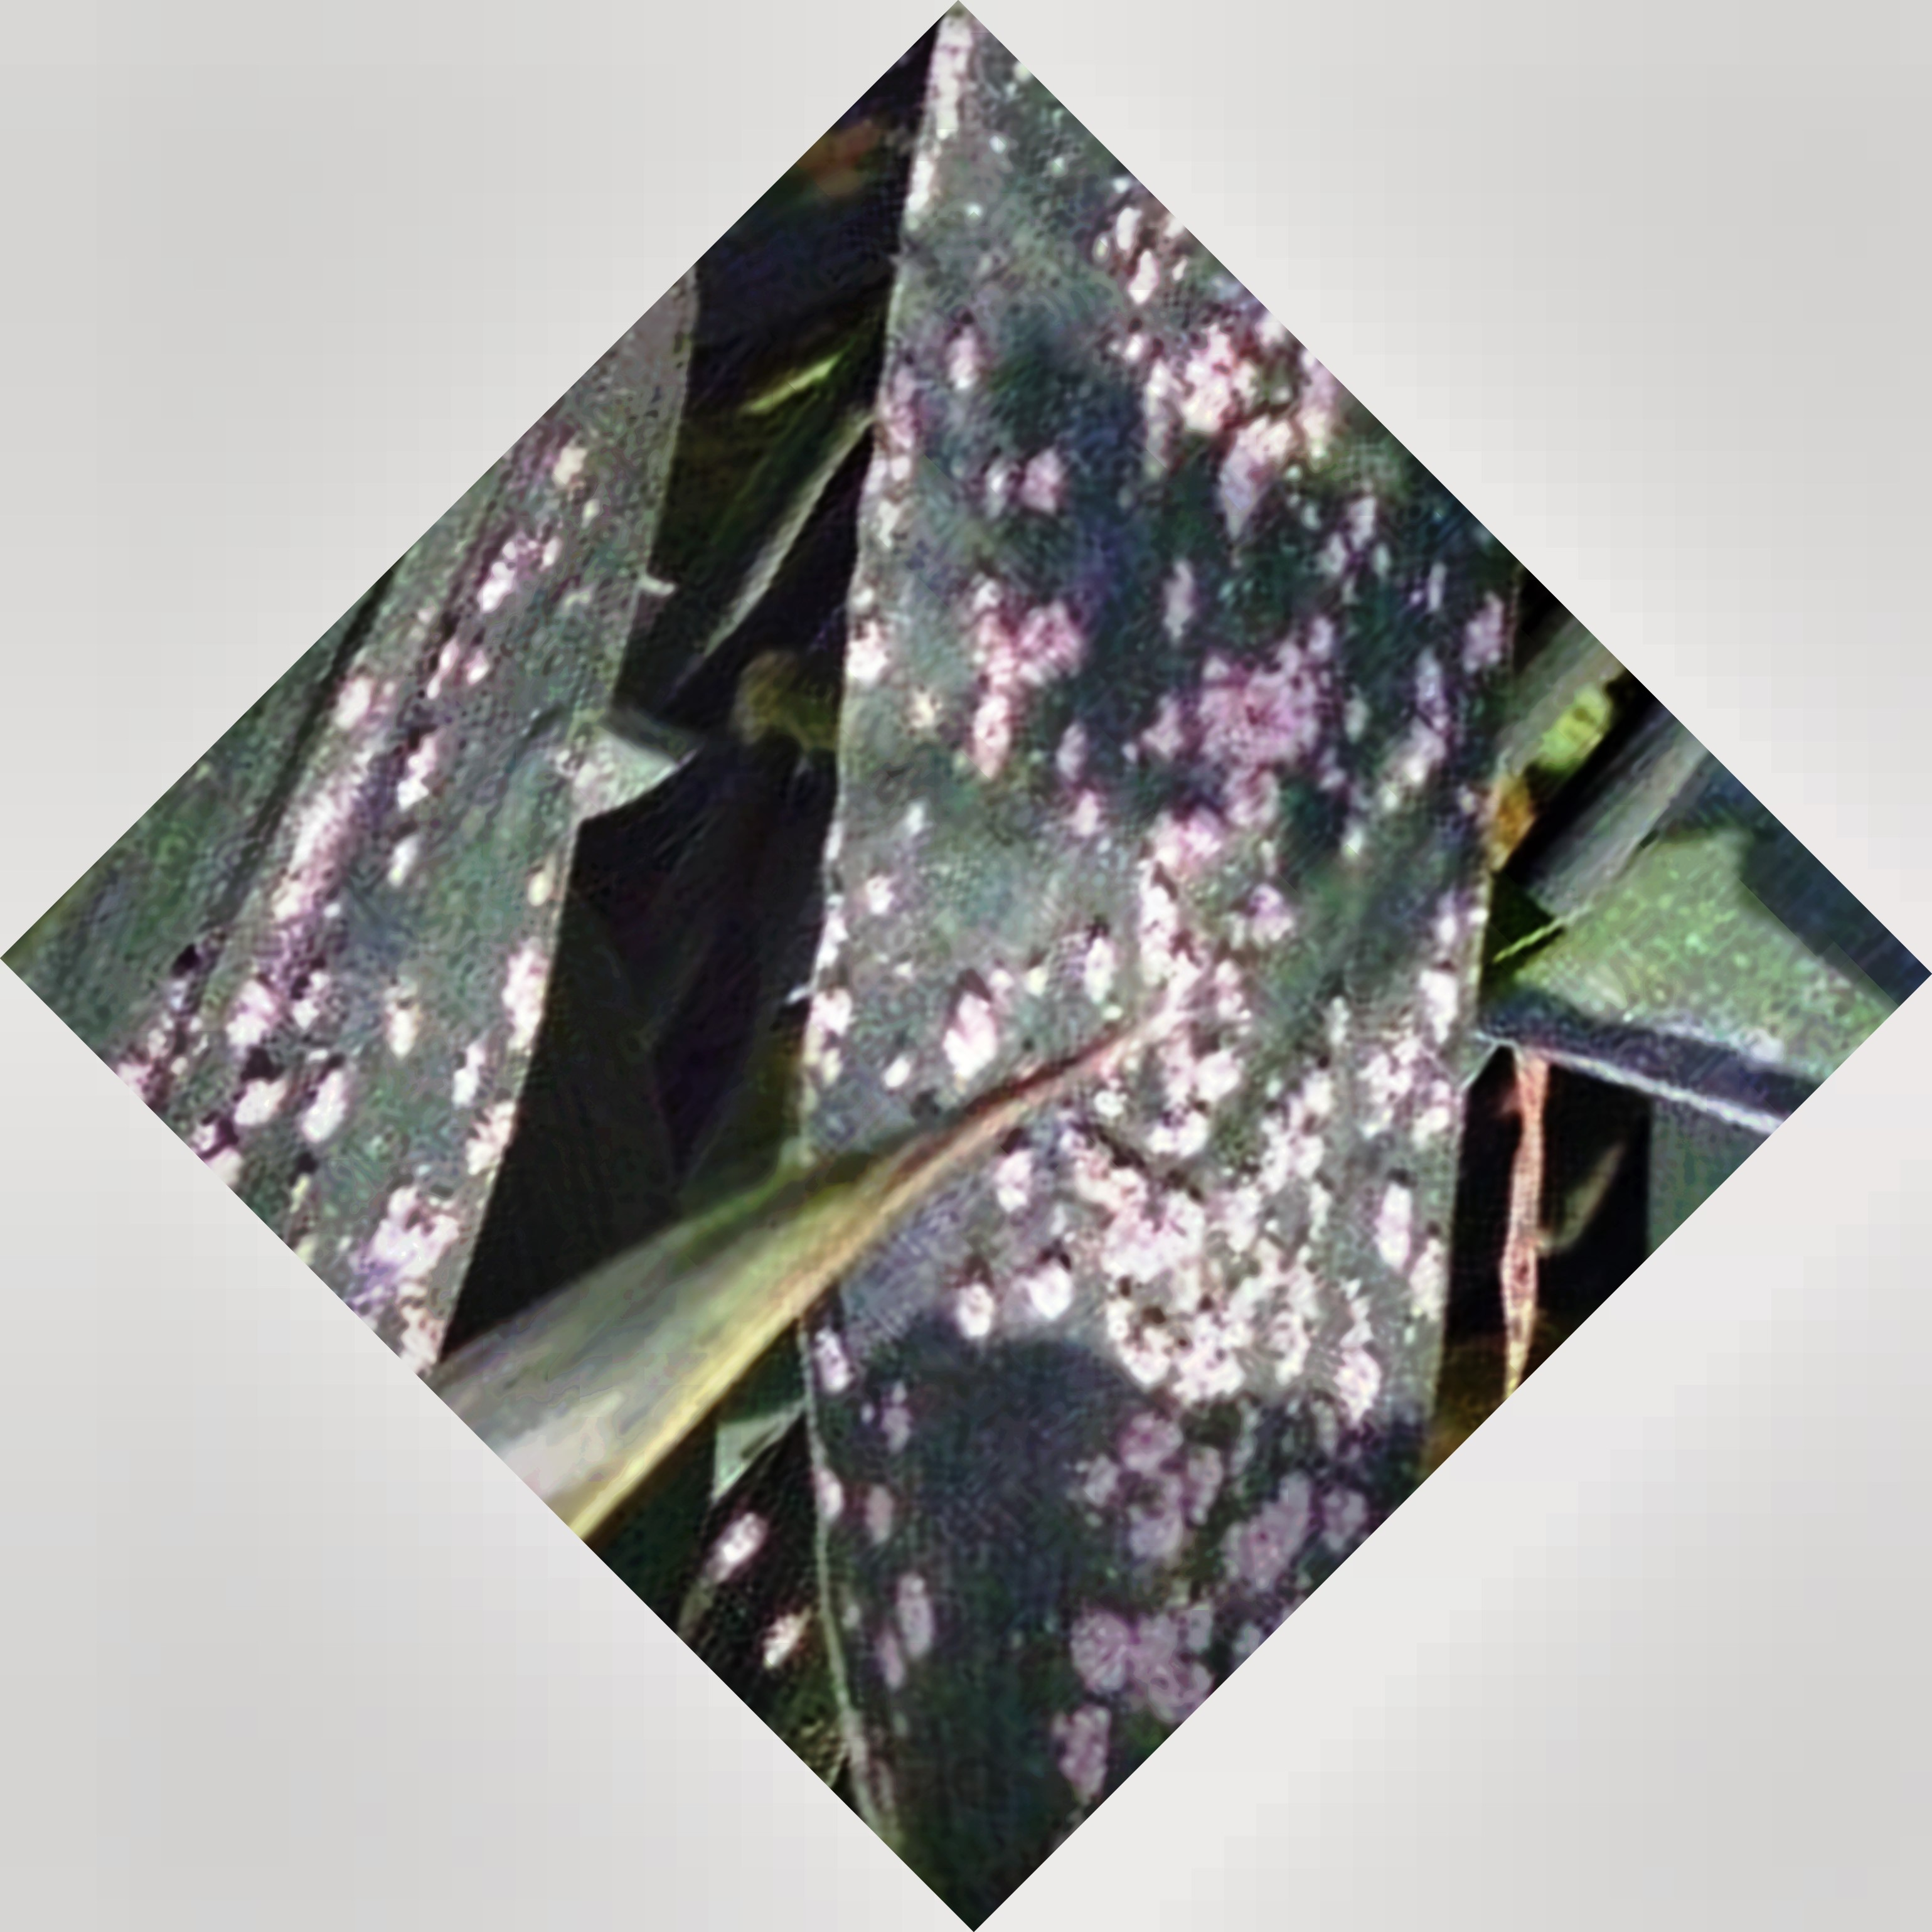Powdery Mildew: (791, 241, 1523, 1718)
